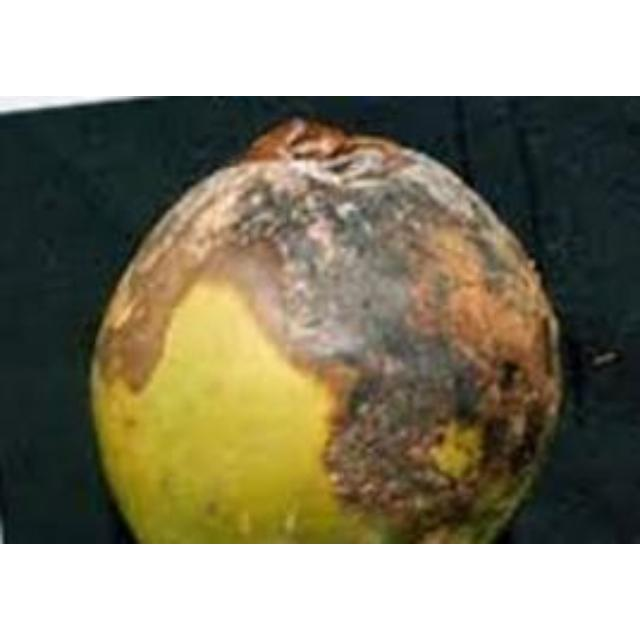damaged: (86, 115, 576, 543)
